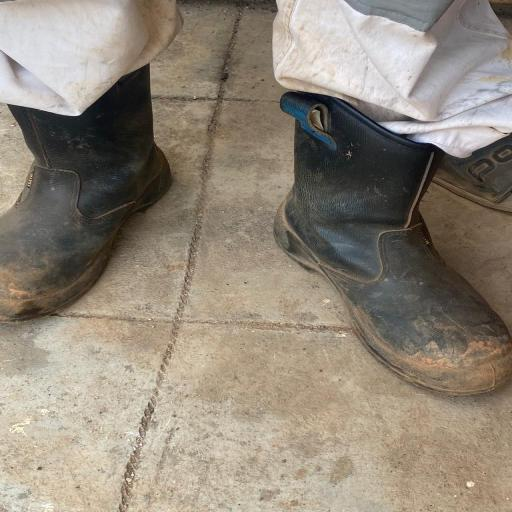Safety-shoes: (265, 89, 512, 397), (0, 64, 175, 326)
